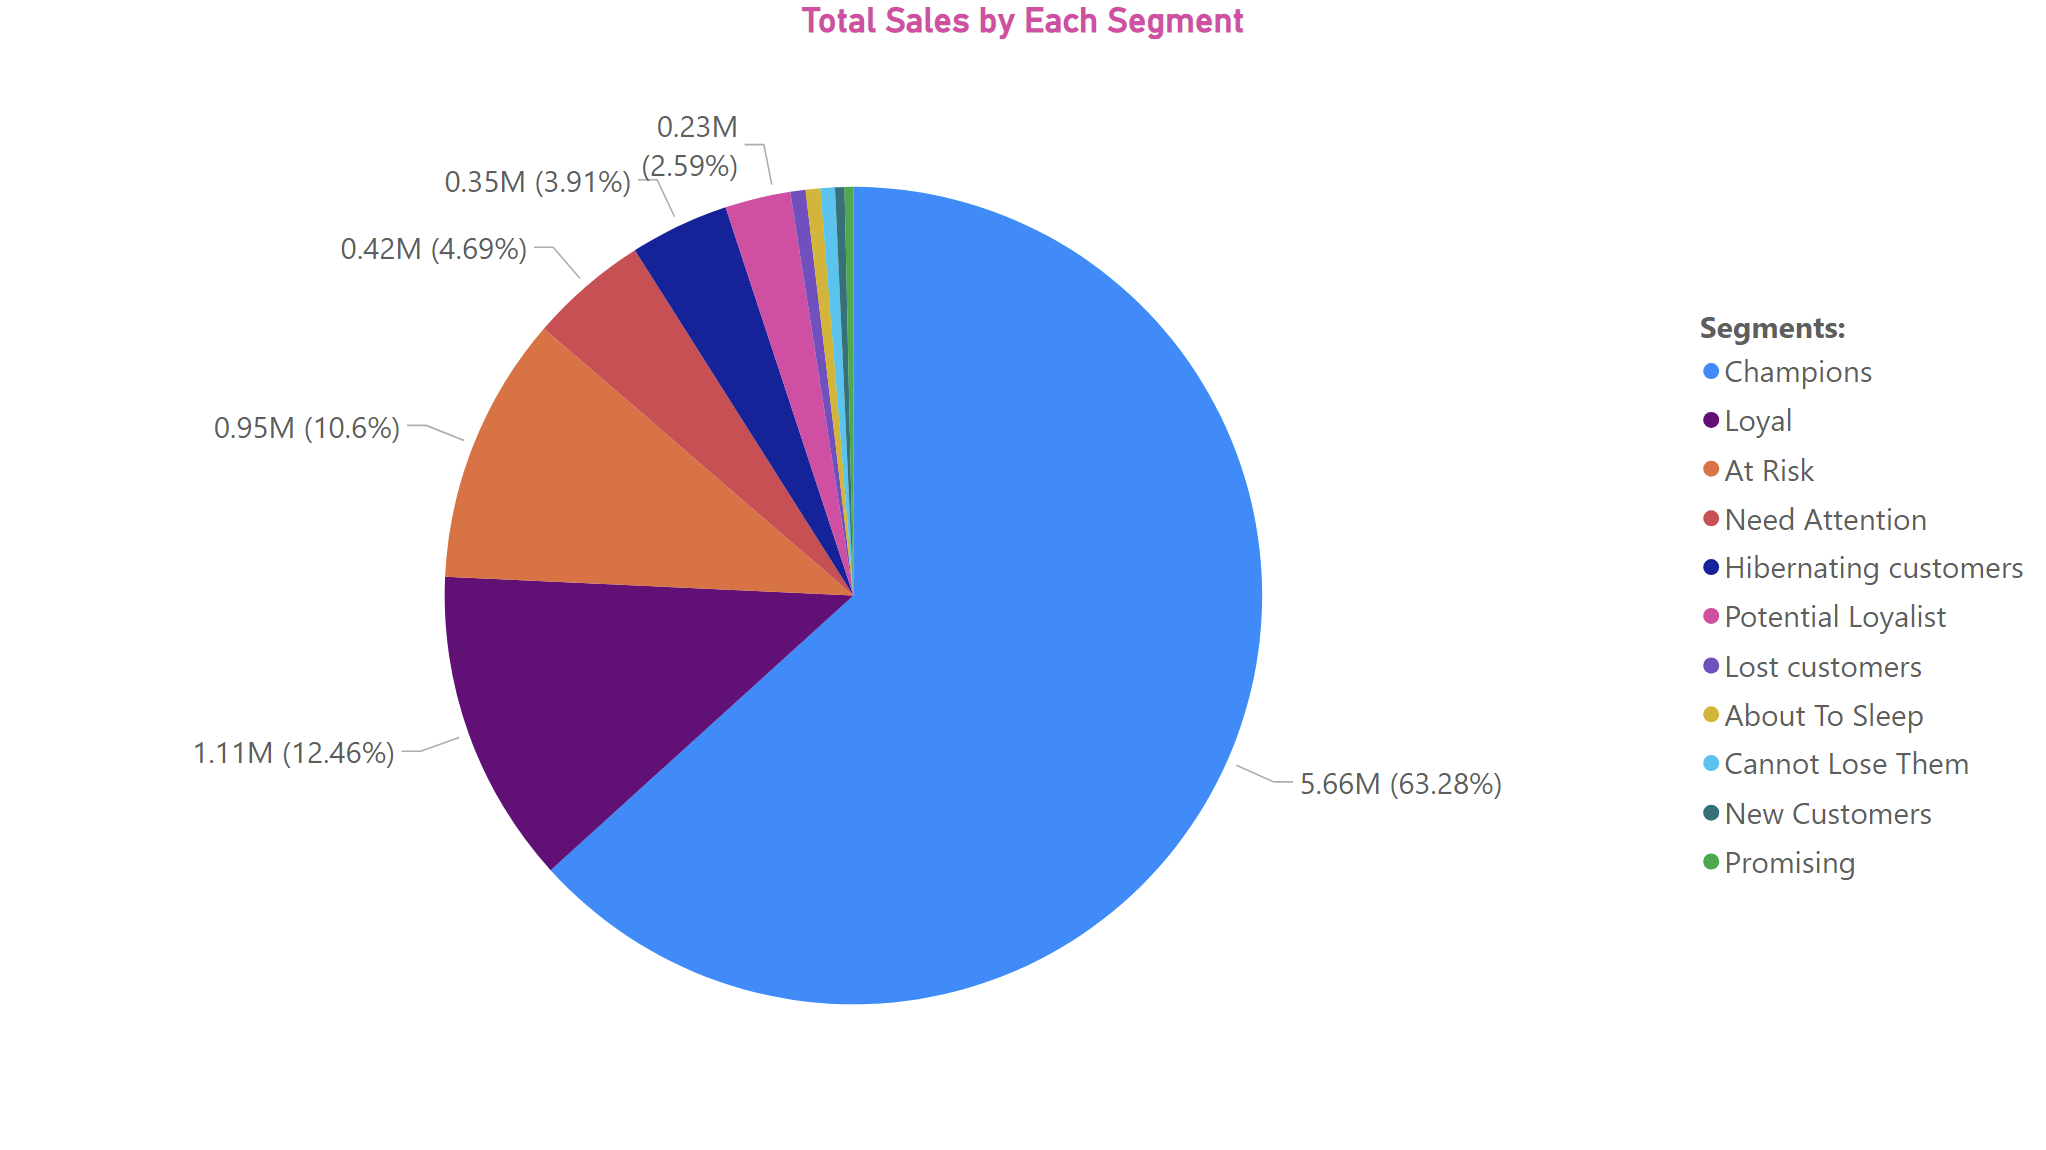

The dashboard page shown, as its layout file describes it:
{"tool":"powerbi","page":{"name":"RFM_02","canvas":[1280,720],"ordinal":2},"visuals":[{"type":"pieChart","title":"Total Sales by Each Segment","fields":{"Category":["Z2_RFM_Score.Segment"],"Y":["Sum(eCommerce_Sales_Dataset_Sale_Transaction.Total_Price)"]},"box":[0,0,1280,720],"z":0}]}

Visuals, with their boxes in screenshot pixels (x1, y1, x2, y2), scaled from the page's 1280x720 canvas onto the 2046x1150 screenshot:
"Total Sales by Each Segment" pieChart: <bbox>0, 0, 2045, 1149</bbox>
